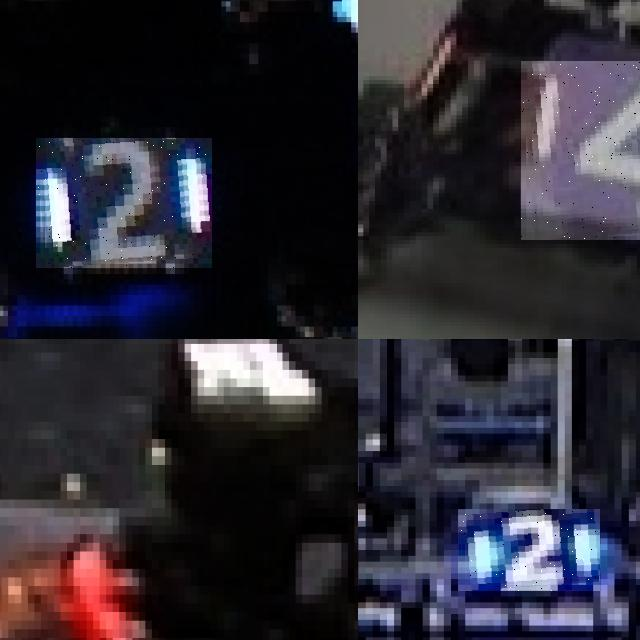B2: (36, 138, 212, 268), (458, 509, 600, 591)
R4: (520, 60, 640, 240)
